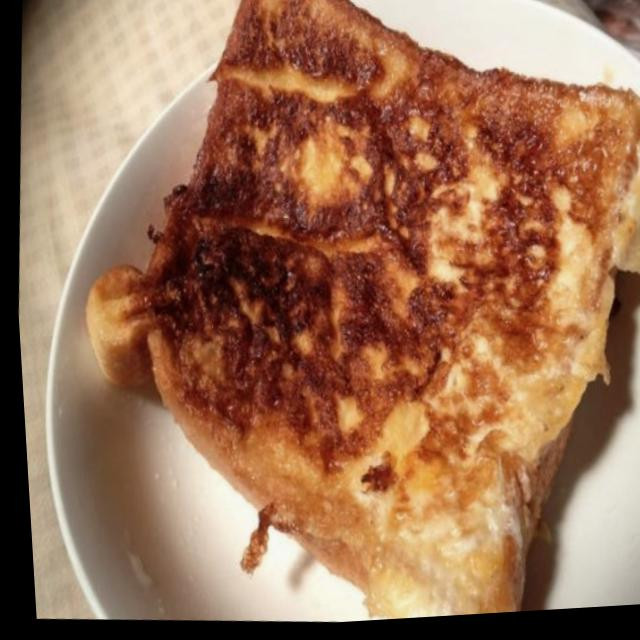面包点心: (51, 0, 640, 638)
